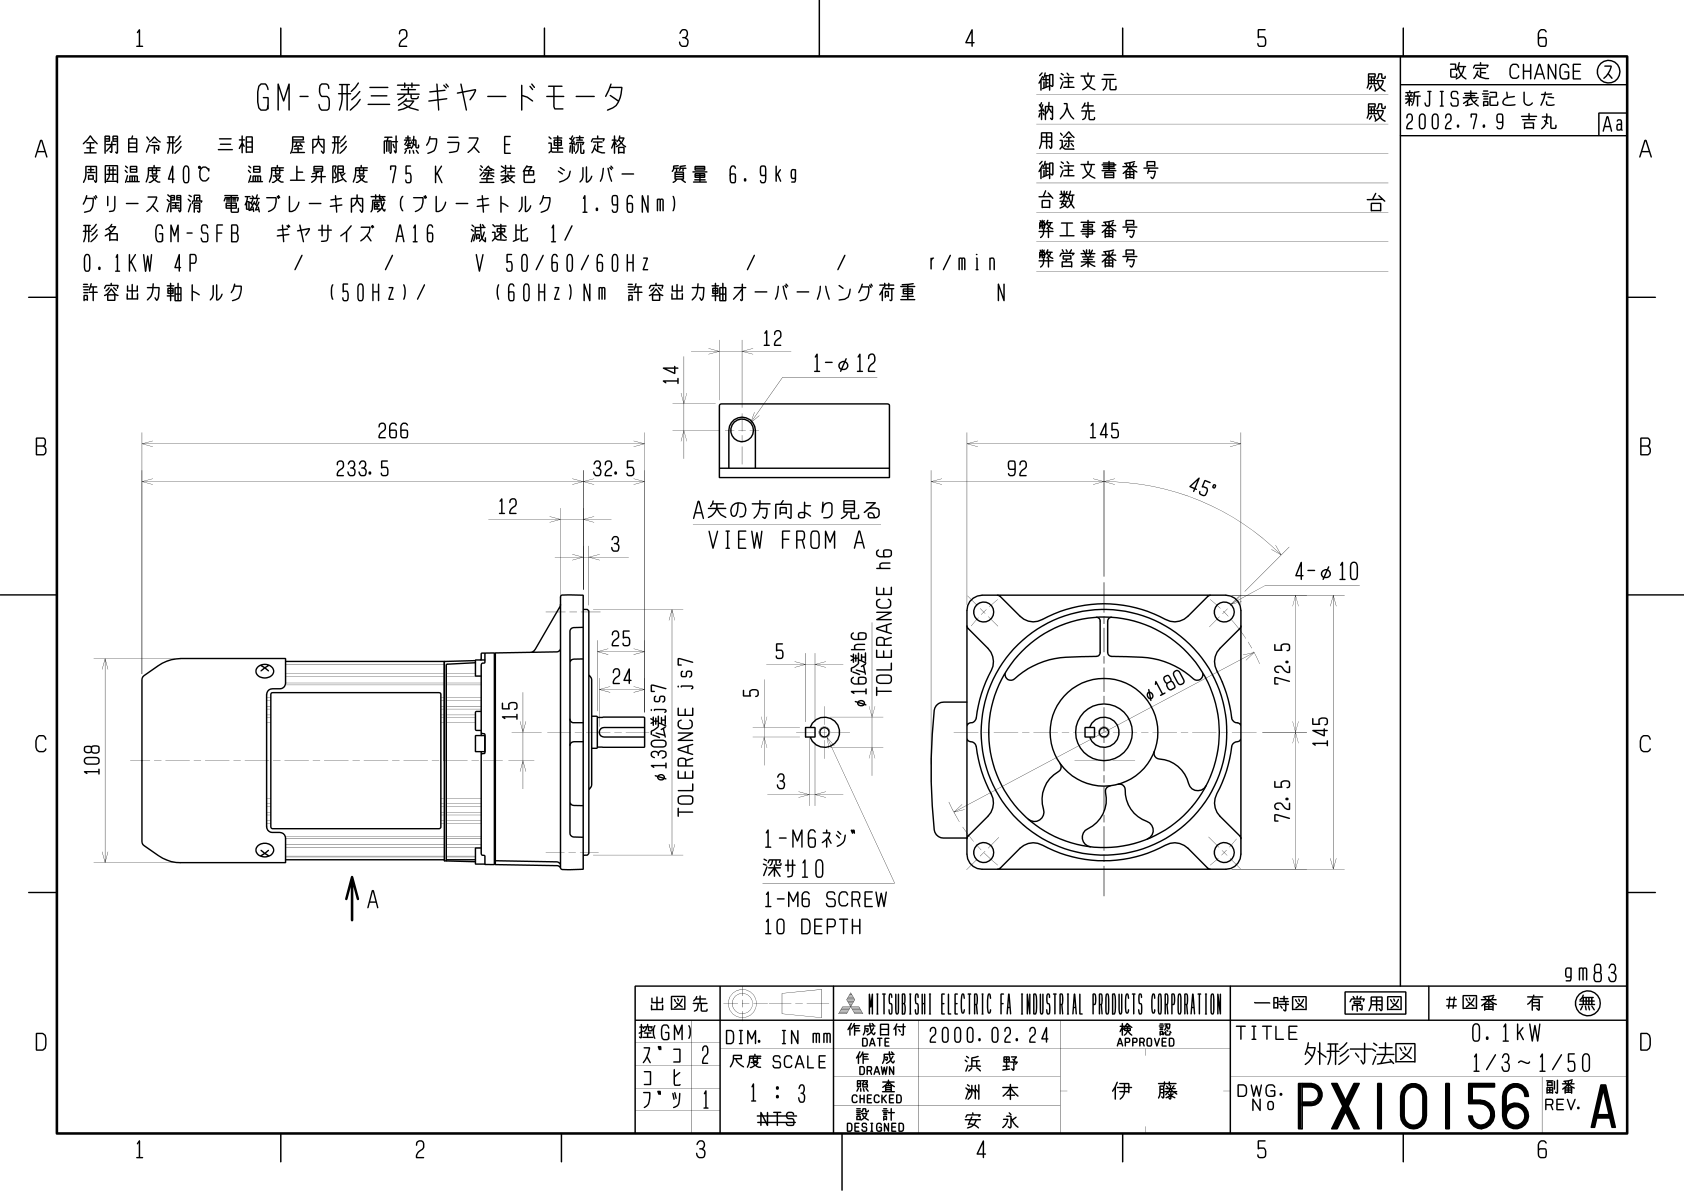GM_S_屋内＿三相_フランジ: (64, 312, 1375, 953)
